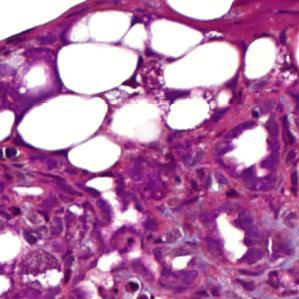steatosis: (12, 93, 107, 150), (56, 44, 142, 92), (241, 37, 280, 80)
